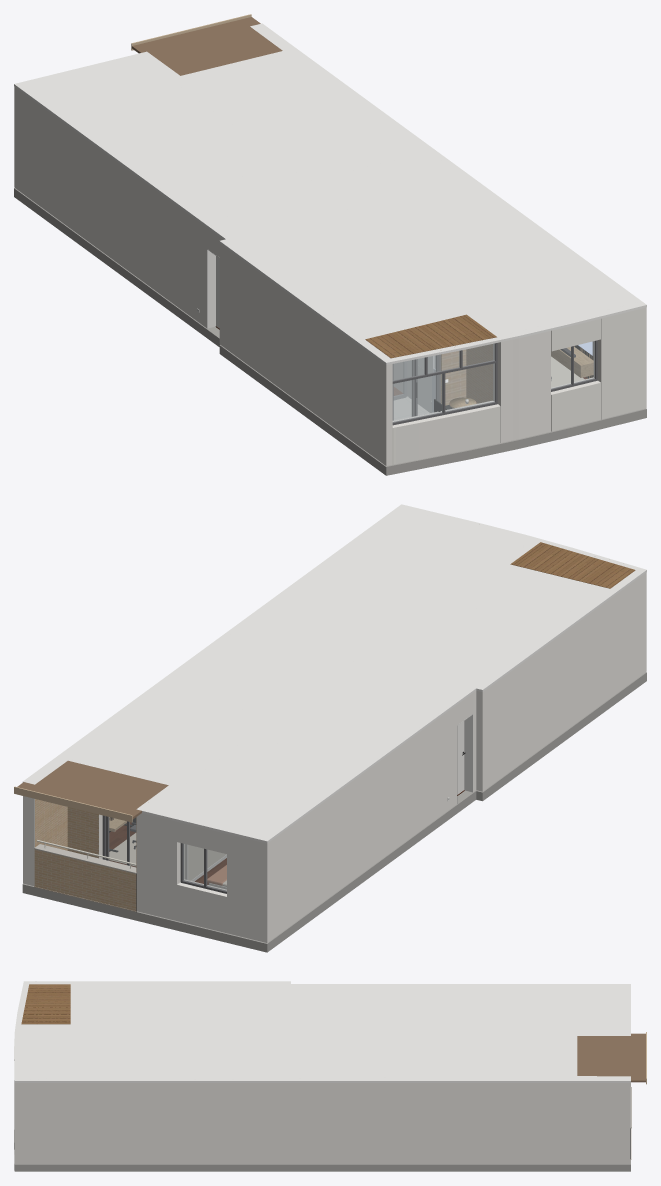
File: apartment.glb
The picture shows the model from 3 angles, top to bottom: view 1: azimuth 30°, elevation 25°; view 2: azimuth 150°, elevation 25°; view 3: azimuth 270°, elevation 25°; orthographic projection. The views are drawn at different scales.
Visible parts, largest first — view 1: Room_exterior, Room_sala, Room_quarto-01, Room_quarto-02, Room_marquise, Room_cozinha, Room_entrada, Room_quarto-03, Room_wc-02, Room_lavandaria, Room_varanda, Room_wc-01 (+3 smaller); view 2: Room_exterior, Room_sala, Room_varanda, Room_quarto-01, Room_quarto-02, Room_cozinha, Room_entrada, Room_quarto-03, Room_wc-02, Room_marquise, Room_wc-01, Room_lavandaria (+3 smaller); view 3: Room_exterior, Room_sala, Room_quarto-01, Room_quarto-02, Room_cozinha, Room_entrada, Room_quarto-03, Room_wc-02, Room_varanda, Room_marquise, Room_wc-01, Room_lavandaria (+2 smaller).
Boxes of the visible parts, x1,y1,x2,y2 form: Room_exterior: (14,14,646,475); Room_sala: (315,179,639,415); Room_quarto-01: (18,55,239,268); Room_quarto-02: (171,51,390,149); Room_marquise: (355,311,505,463); Room_cozinha: (220,221,409,417); Room_entrada: (201,165,350,335); Room_quarto-03: (309,148,466,211); Room_wc-02: (267,123,421,180); Room_lavandaria: (324,291,446,444); Room_varanda: (136,21,289,77); Room_wc-01: (126,141,241,194); Room_exterior: (14,504,646,952); Room_sala: (237,508,529,665); Room_varanda: (21,758,172,923); Room_quarto-01: (142,737,374,941); Room_quarto-02: (65,685,275,867); Room_cozinha: (396,597,579,792); Room_entrada: (297,656,475,803); Room_quarto-03: (195,630,358,686); Room_wc-02: (166,661,317,717); Room_marquise: (499,540,642,694); Room_wc-01: (291,713,413,763); Room_lavandaria: (490,570,615,717); Room_exterior: (14,981,646,1171); Room_sala: (15,1015,293,1080); Room_quarto-01: (455,984,625,1035); Room_quarto-02: (413,1031,573,1078); Room_cozinha: (132,981,290,1017); Room_entrada: (285,984,387,1031); Room_quarto-03: (285,1031,361,1078); Room_wc-02: (353,1031,421,1077); Room_varanda: (574,1031,636,1161); Room_marquise: (21,981,73,1027); Room_wc-01: (387,985,463,1015); Room_lavandaria: (73,981,132,1017).
Size of the model in its own units: 6.95 by 3 by 18.65.
Materials: 319 (114 with a texture image).
